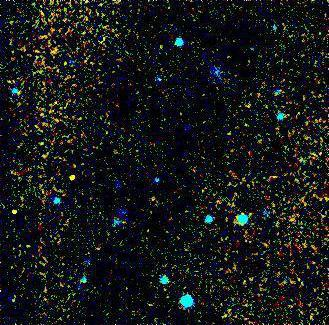star: (62, 167, 92, 197)
